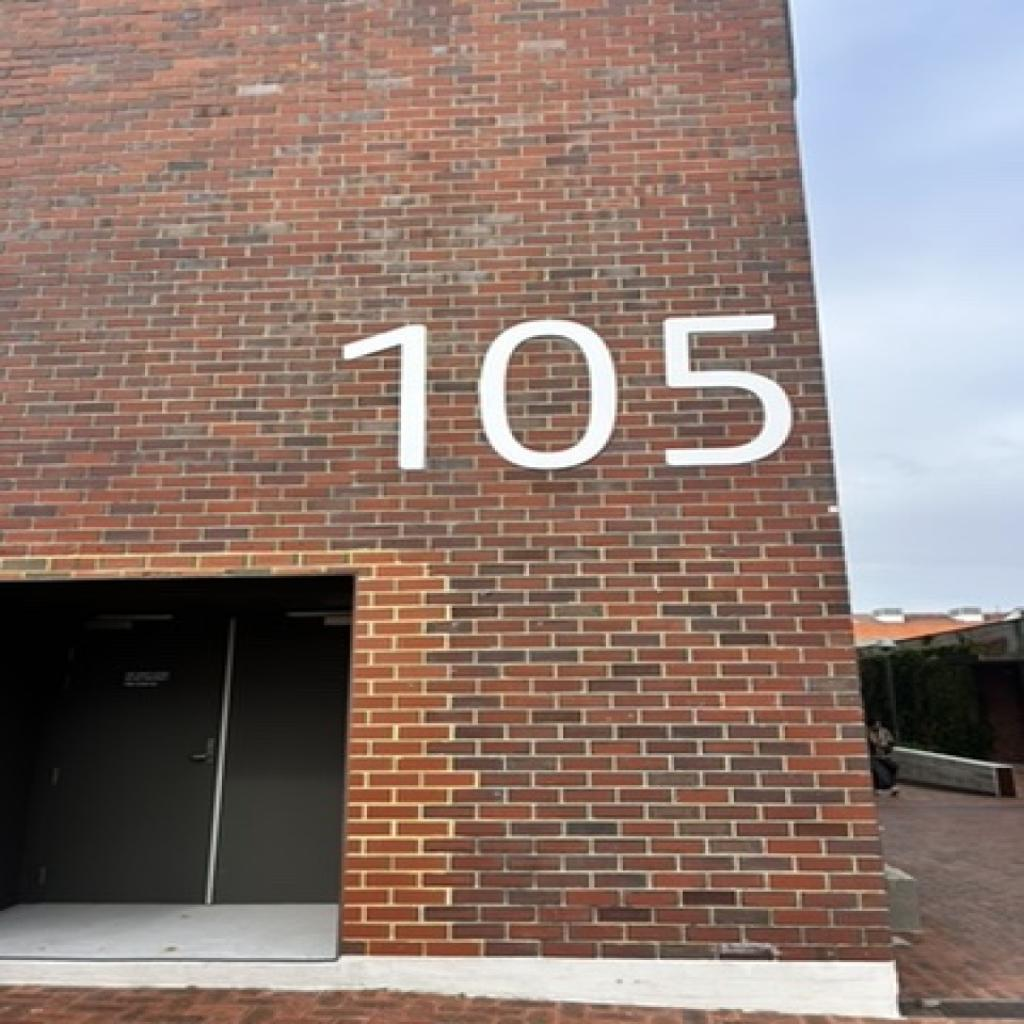BuildingCodes: (338, 308, 796, 474)
